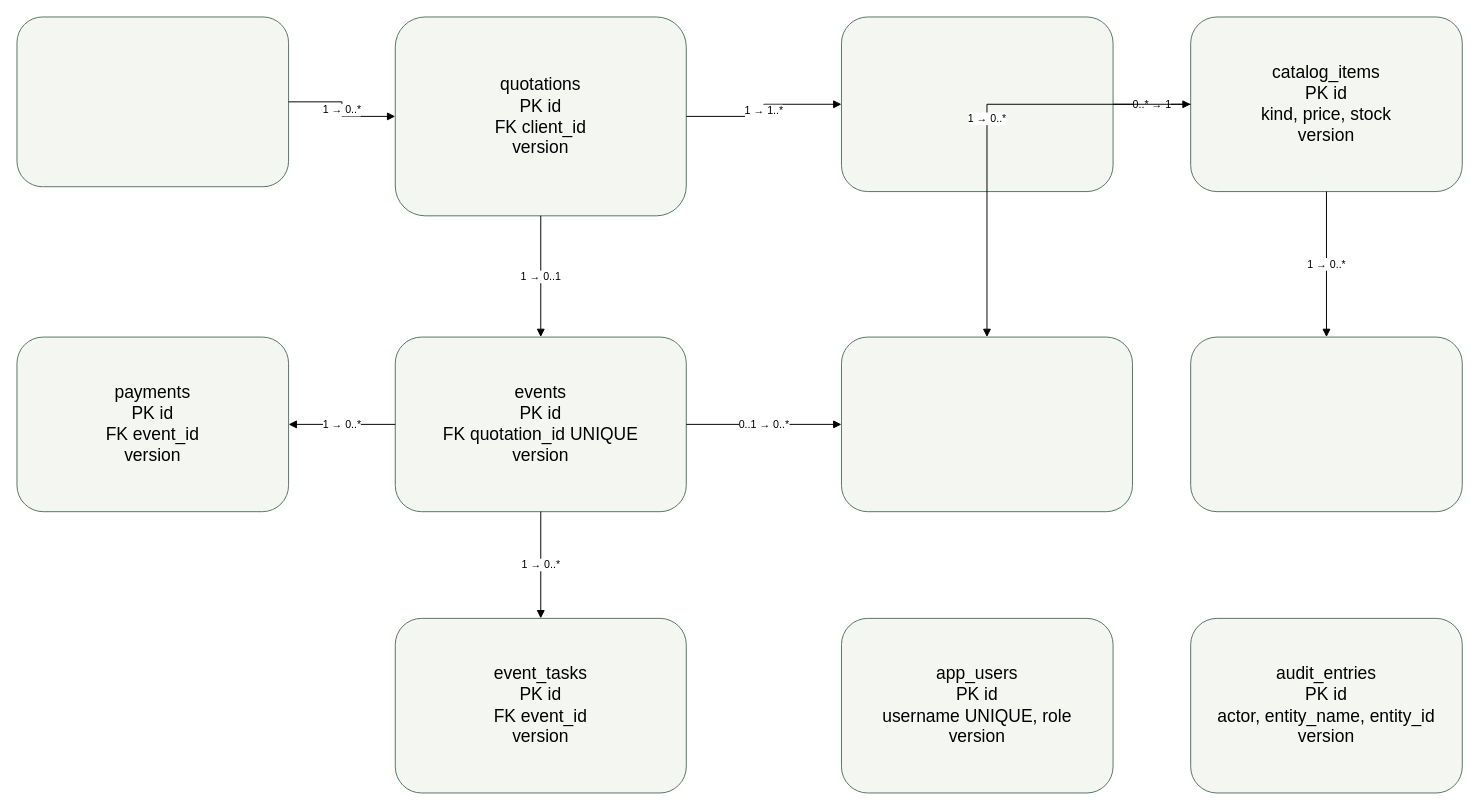
Some shapes in this 1479 by 810 pixel diagram are drawn without their labels. Each missing label, with the centre of its shape:
clients PK id active, name version: pixel 152 101
components PK id FK parent_id, ingredient_id version: pixel 1326 424
quote_lines PK id FK quotation_id, item_id version: pixel 977 104
stock_movements PK id FK item_id, event_id NULL version: pixel 986 424
